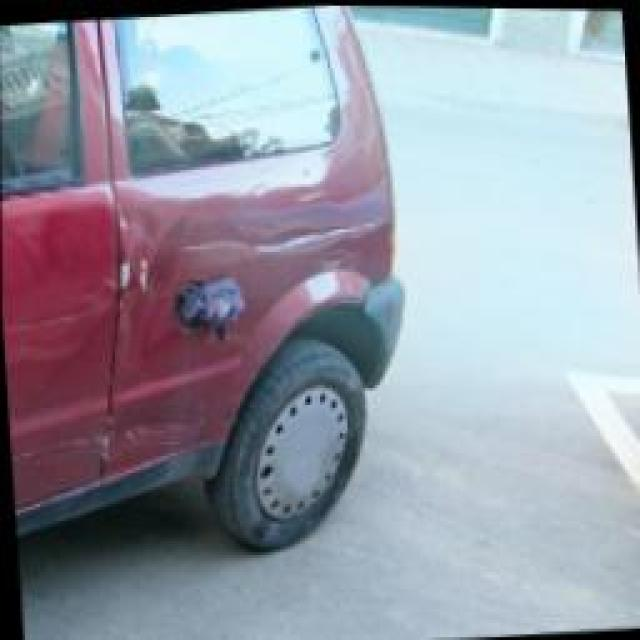Fender: (92, 156, 394, 468)
